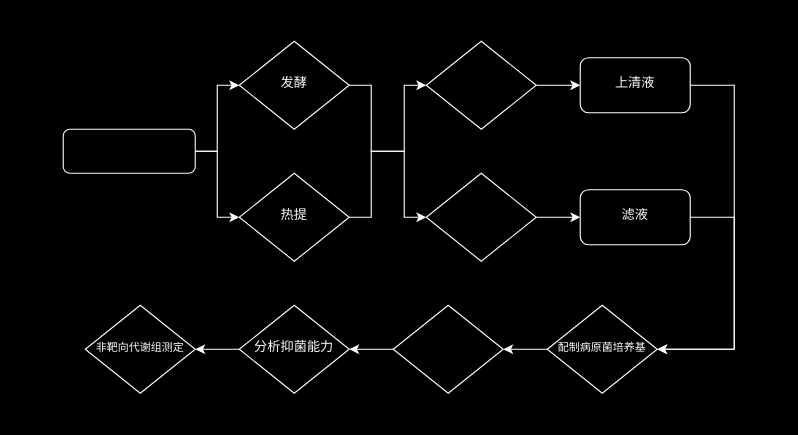
This 798x435 diagram has some shape labels left out. The shapes that lost their labels are listed below. From the top down, each one's box as (x1, y1, x2, y2) in pixels, then its label:
(425, 40, 536, 129): 离心
(62, 128, 195, 173): 天然萃取物质
(425, 172, 536, 261): 过滤
(392, 304, 503, 393): 接种病原菌
